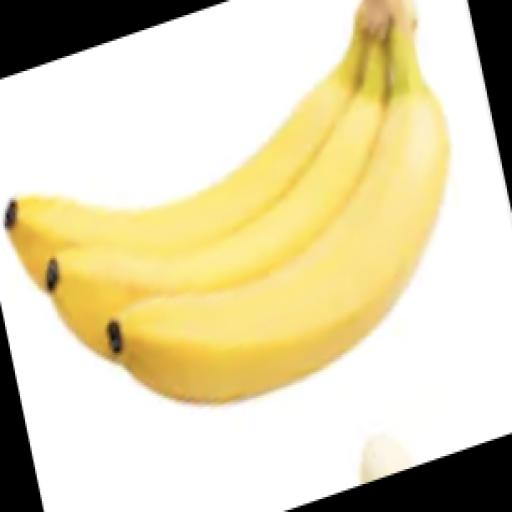banana-ripe: (0, 19, 499, 428)
